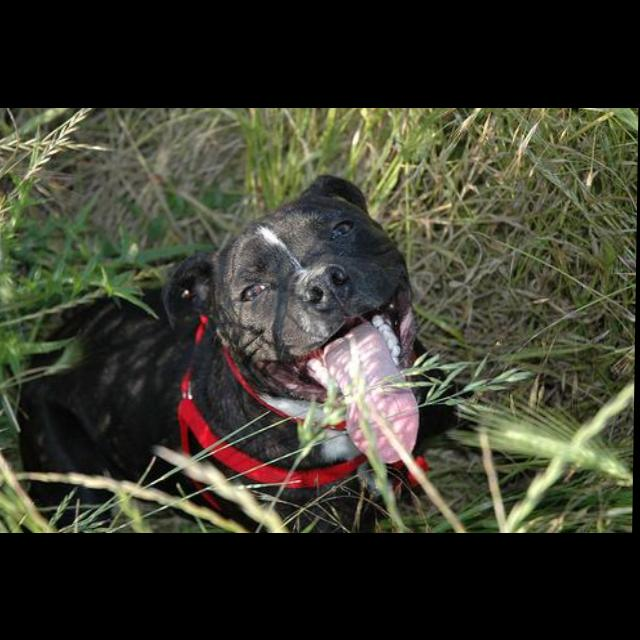staffford: (14, 173, 444, 534)
